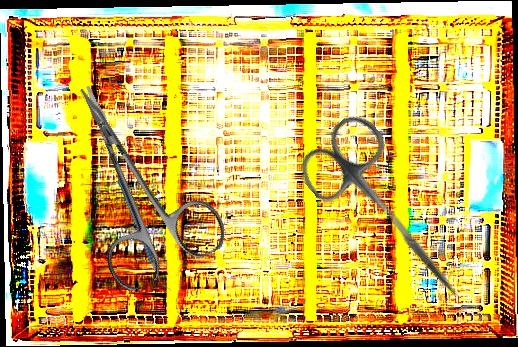Chopper: (118, 175, 171, 294)
Iris Scissors: (33, 58, 233, 297), (289, 106, 495, 324)
